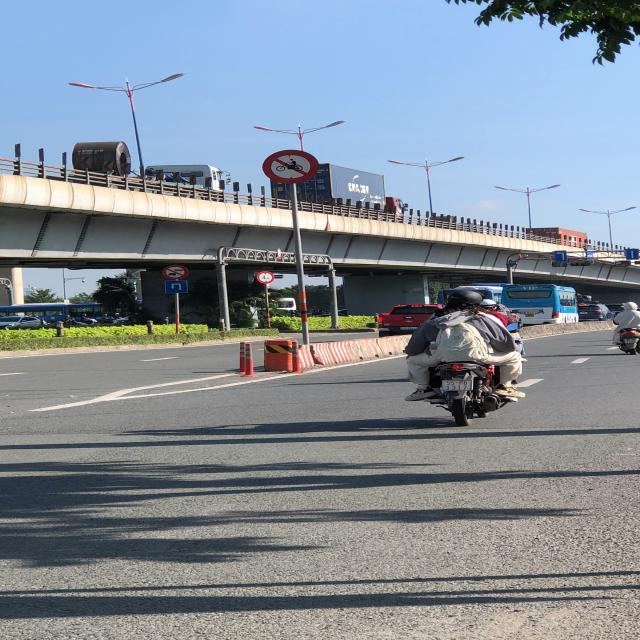Bien bao cam xe may: (261, 148, 319, 185)
